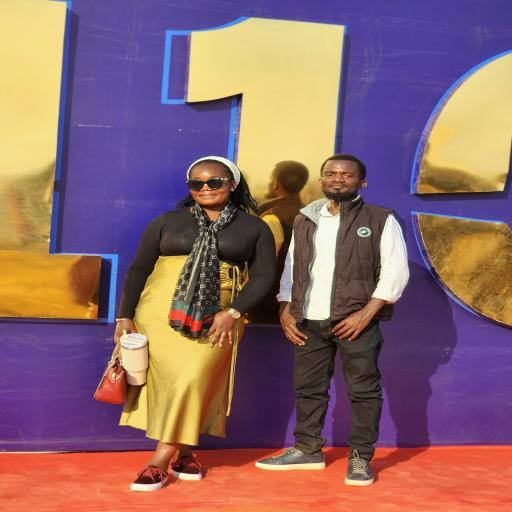MATTHIEU: (315, 152, 369, 204)
